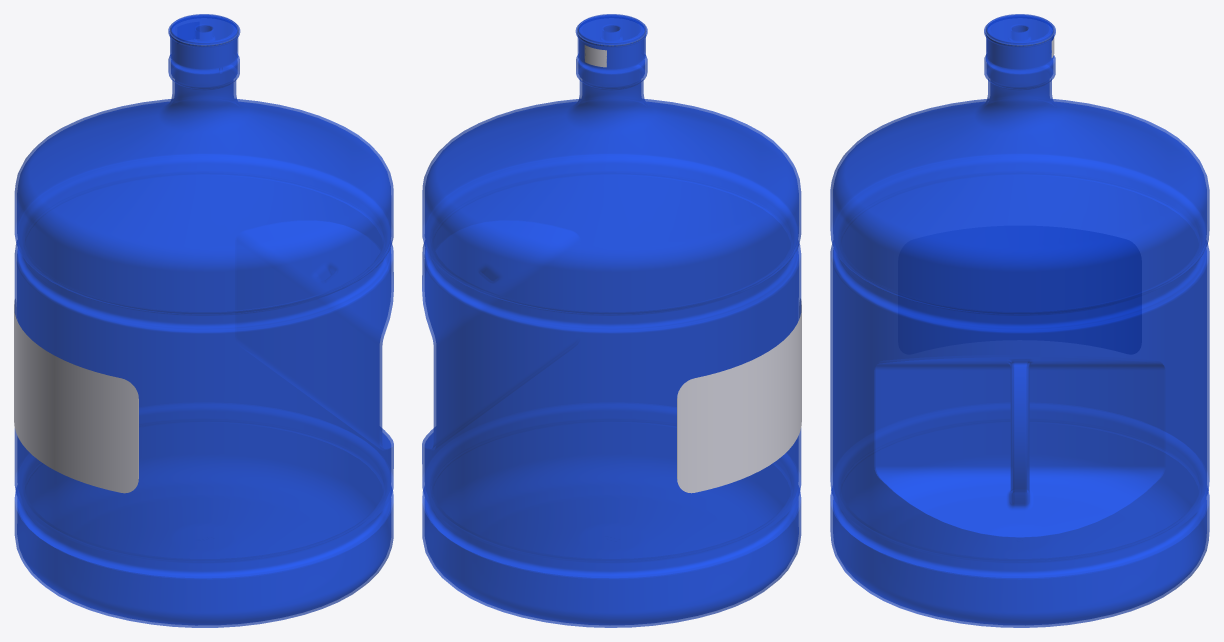
Rendered from water-bottle.glb.
The picture shows the model from 3 angles, left to right: view 1: azimuth 30°, elevation 25°; view 2: azimuth 150°, elevation 25°; view 3: azimuth 270°, elevation 25°; orthographic projection.
Visible parts, largest first — view 1: Solid1 (×2); view 2: Solid1 (×2); view 3: Solid1.
Boxes of the visible parts, left/top/right/bottom form: Solid1 (×2): left=14, top=14, right=393, bottom=627; Solid1 (×2): left=422, top=14, right=801, bottom=627; Solid1: left=830, top=14, right=1209, bottom=627.
Bounding box in the file's own units: 0.3005 × 0.461 × 0.2998.
